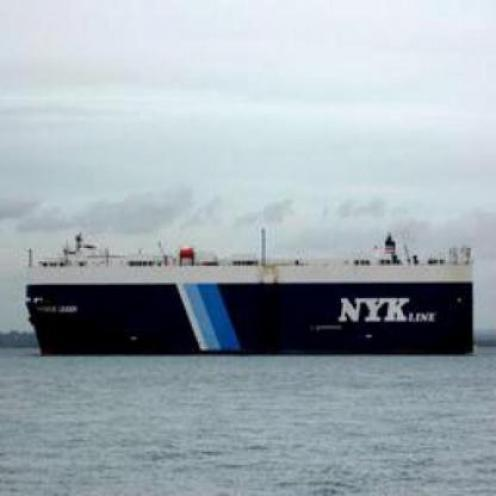Ship: (24, 233, 486, 365)
